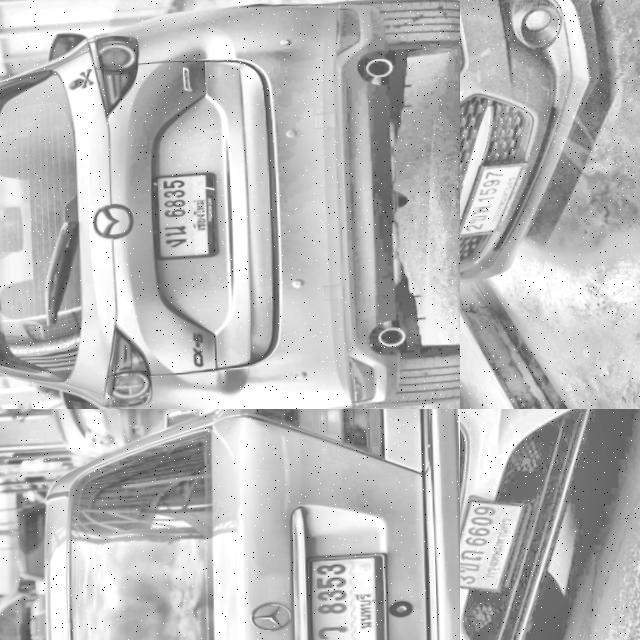license-plate: (298, 544, 398, 640), (142, 171, 228, 265), (460, 495, 535, 598), (460, 162, 530, 241)
